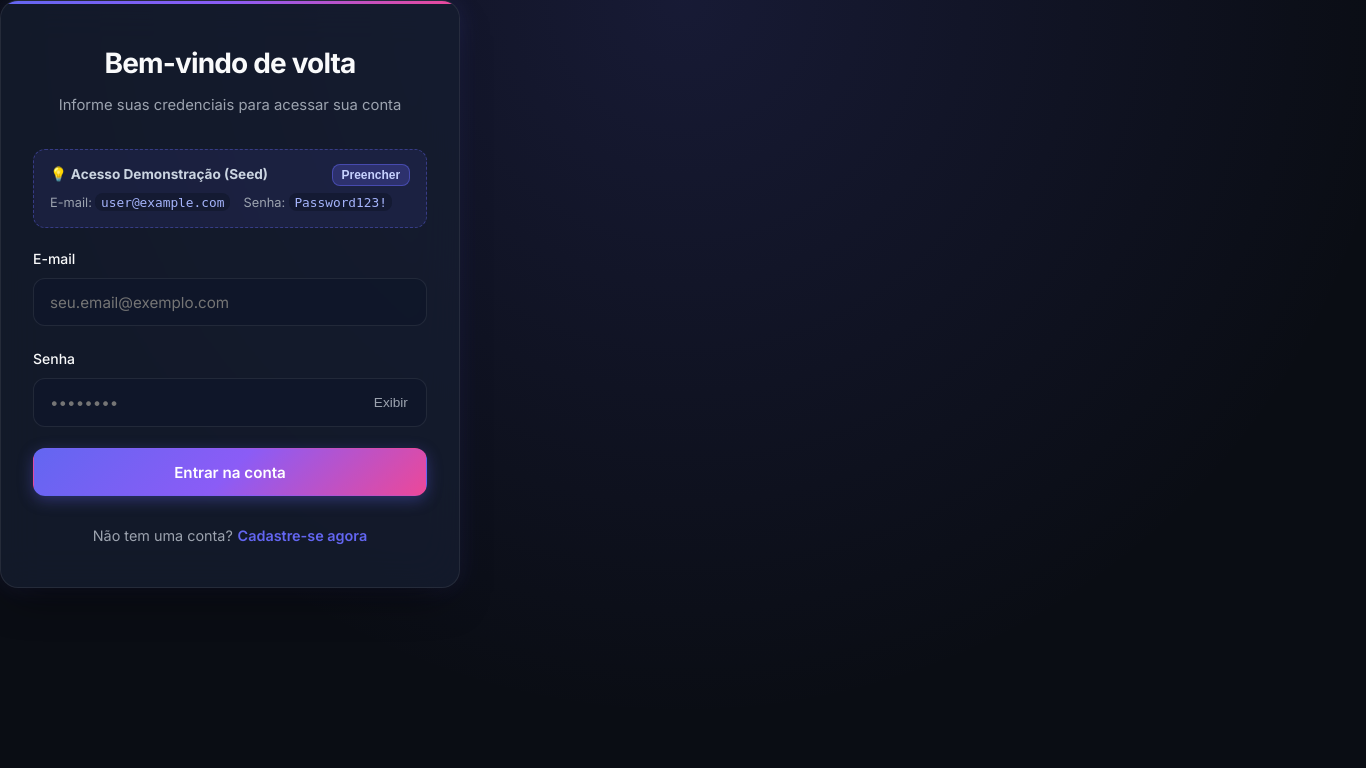
LoginForm Unit Tests › valida campos obrigatórios quando enviado em branco
Click the button with test id "submit-login-button".
click(230, 472)  # box [33,448,427,496]
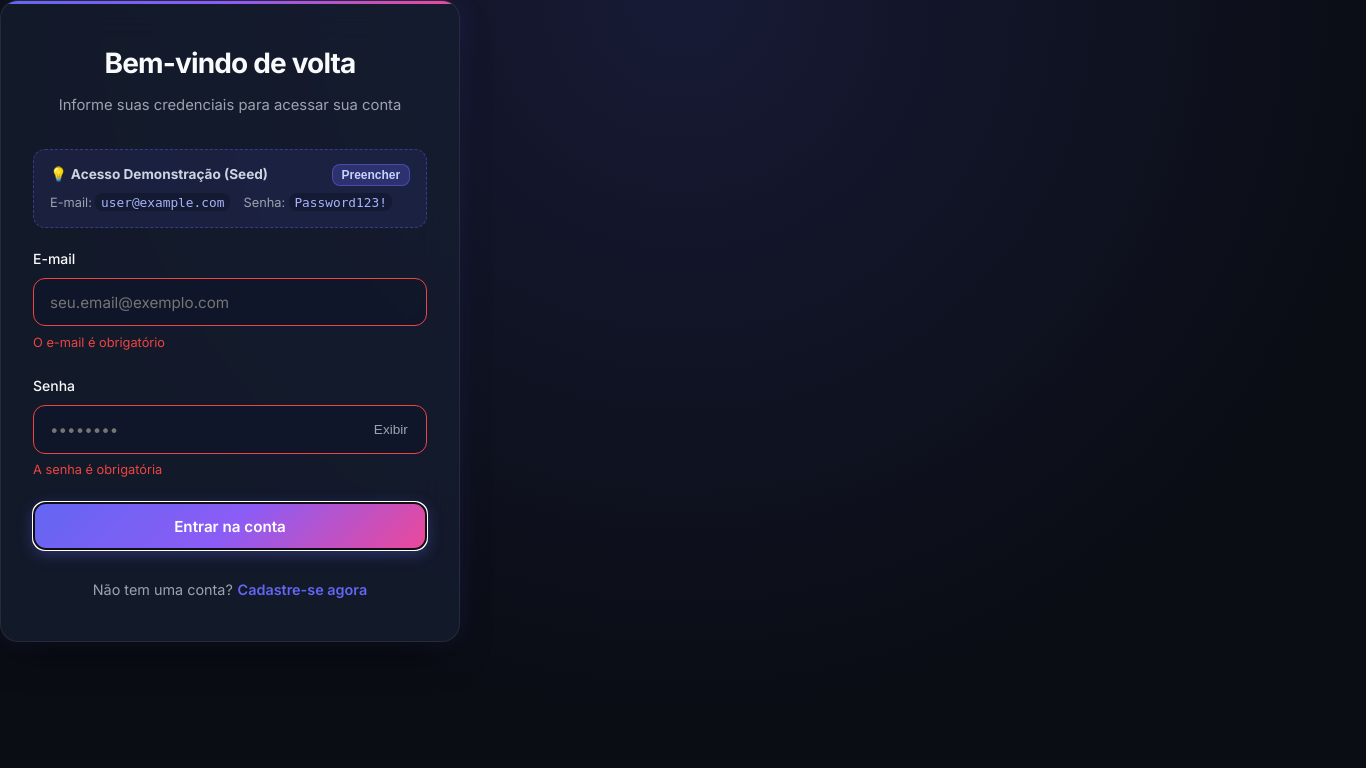
Result: the text with test id "email-error" reads "O e-mail é obrigatório" at [33,335,165,350]
Result: the text with test id "password-error" reads "A senha é obrigatória" at [33,462,162,477]
